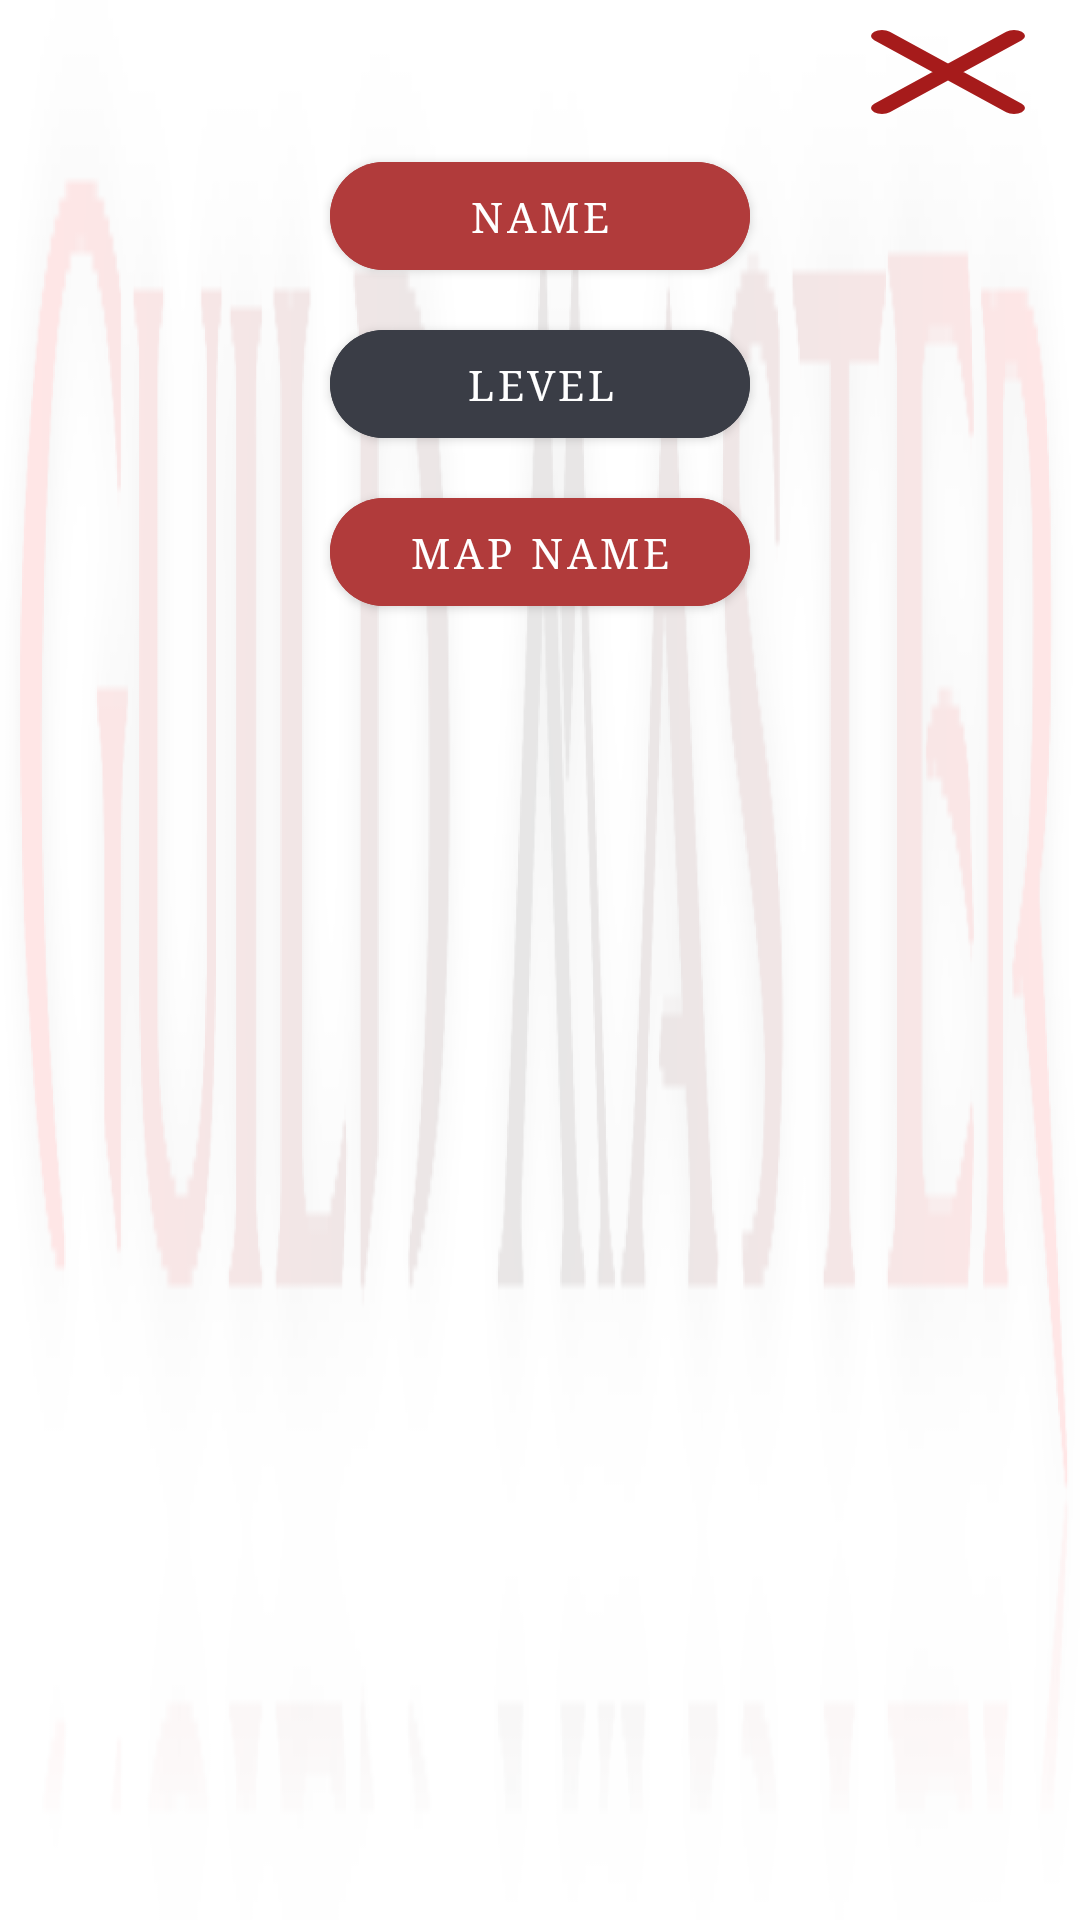

Icon bounding boxes for this 1080*1920 phone screenshot, format (x1, y1, x2, y2):
Close dialog button: (871, 30, 1025, 114)
